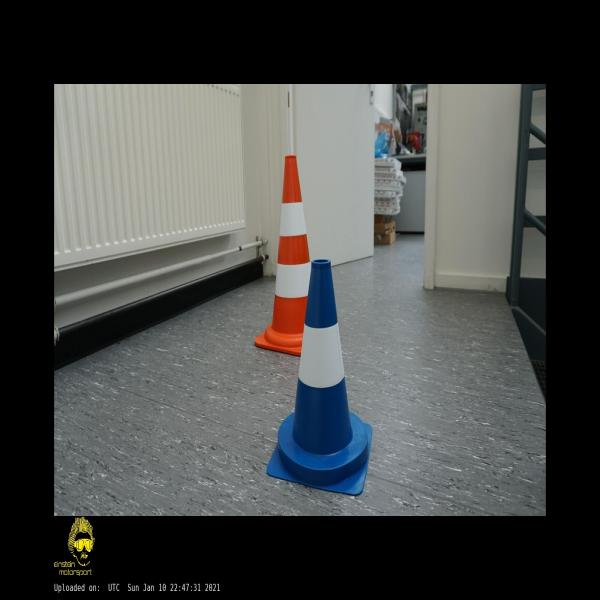blue_cone: (266, 258, 372, 496)
large_orange_cone: (254, 154, 311, 356)
